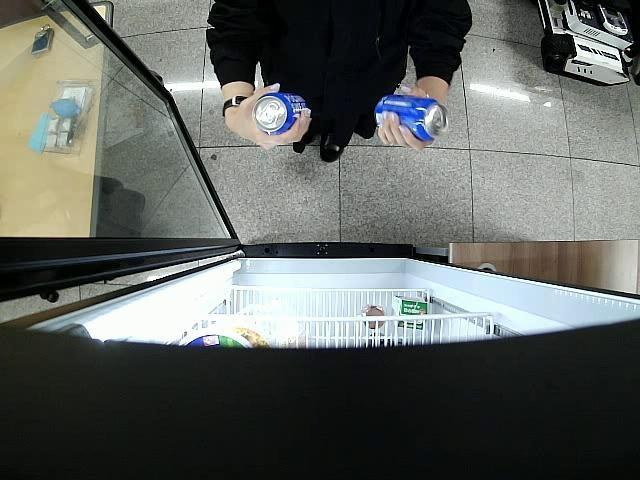13_pocariSweat: (372, 92, 448, 142), (252, 92, 308, 134)
